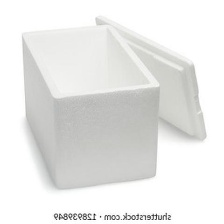foam_box: (16, 10, 212, 195)
